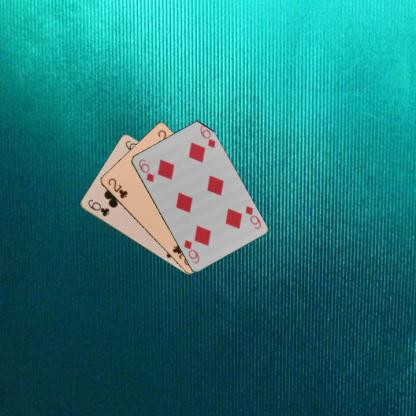2c: (105, 176, 129, 200)
6c: (85, 197, 110, 218)
6d: (242, 203, 262, 230), (136, 156, 155, 184)
